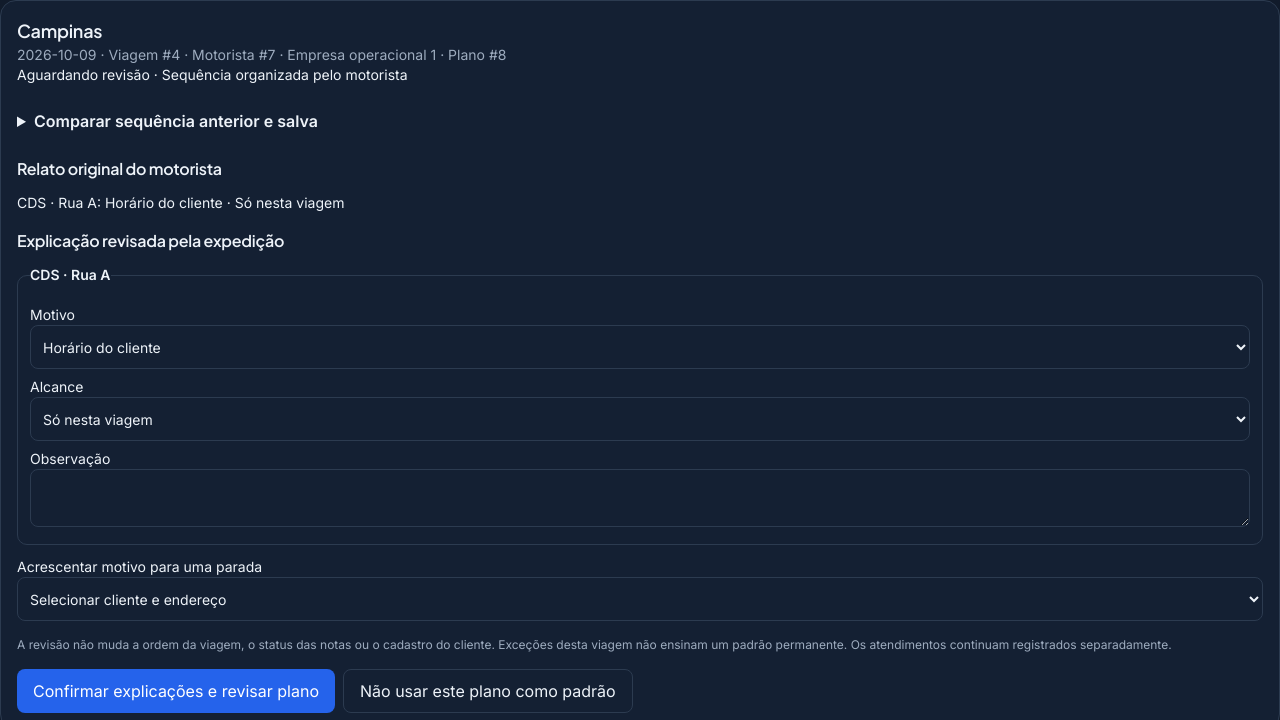
Test: sends the corrected reason while preserving the original driver report
This screenshot has width=1280, height=720.
Select "Cliente fechado ou indisponível" in the dropdown named "Motivo de CDS, Rua A" at (640,347), box top-left (30, 325), bottom-right (1250, 369)
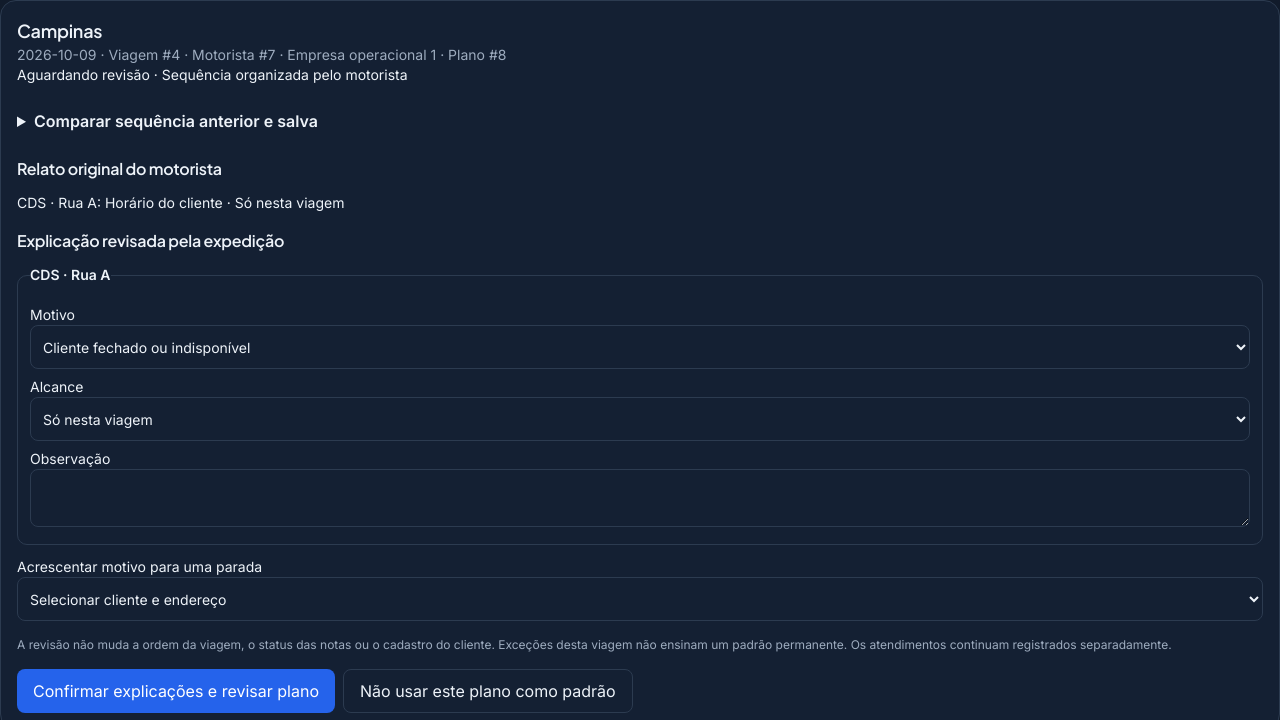
Click the button "Confirmar explicações e revisar plano" at (176,691), box top-left (17, 669), bottom-right (335, 713)
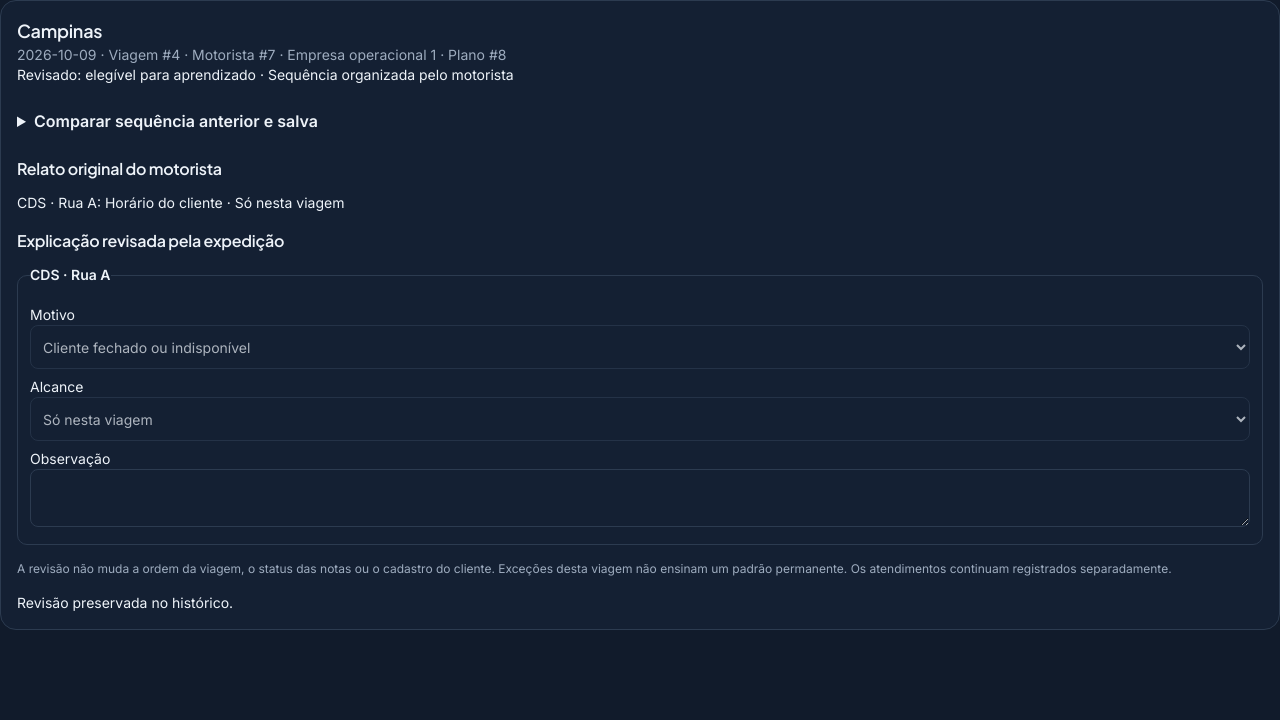
Expected: the text "CDS · Rua A: Horário do cliente · Só nesta viagem" is shown, top-left (17, 194), bottom-right (344, 211)
Result: the message shows "Revisão preservada" at top-left (17, 594), bottom-right (229, 611)
